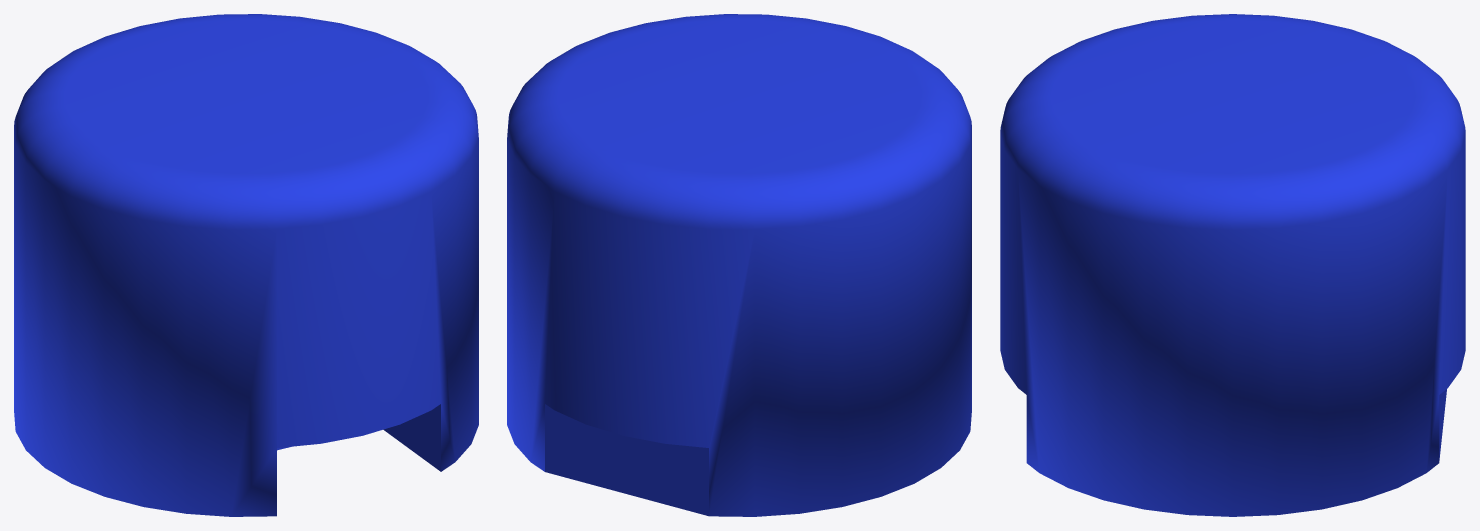
Rendered from SKillKicksBlue.glb.
3 renders of one model, left to right at view 1: azimuth 30°, elevation 25°; view 2: azimuth 150°, elevation 25°; view 3: azimuth 270°, elevation 25°, orthographic.
Visible parts, largest first — view 1: Cylinder.001; view 2: Cylinder.001; view 3: Cylinder.001.
Part boxes in pixels (left/top/right/bottom): Cylinder.001: left=14, top=14, right=478, bottom=516; Cylinder.001: left=507, top=14, right=971, bottom=516; Cylinder.001: left=1000, top=14, right=1465, bottom=516.
Bounding box in the file's own units: 2.62 × 2 × 2.62.
